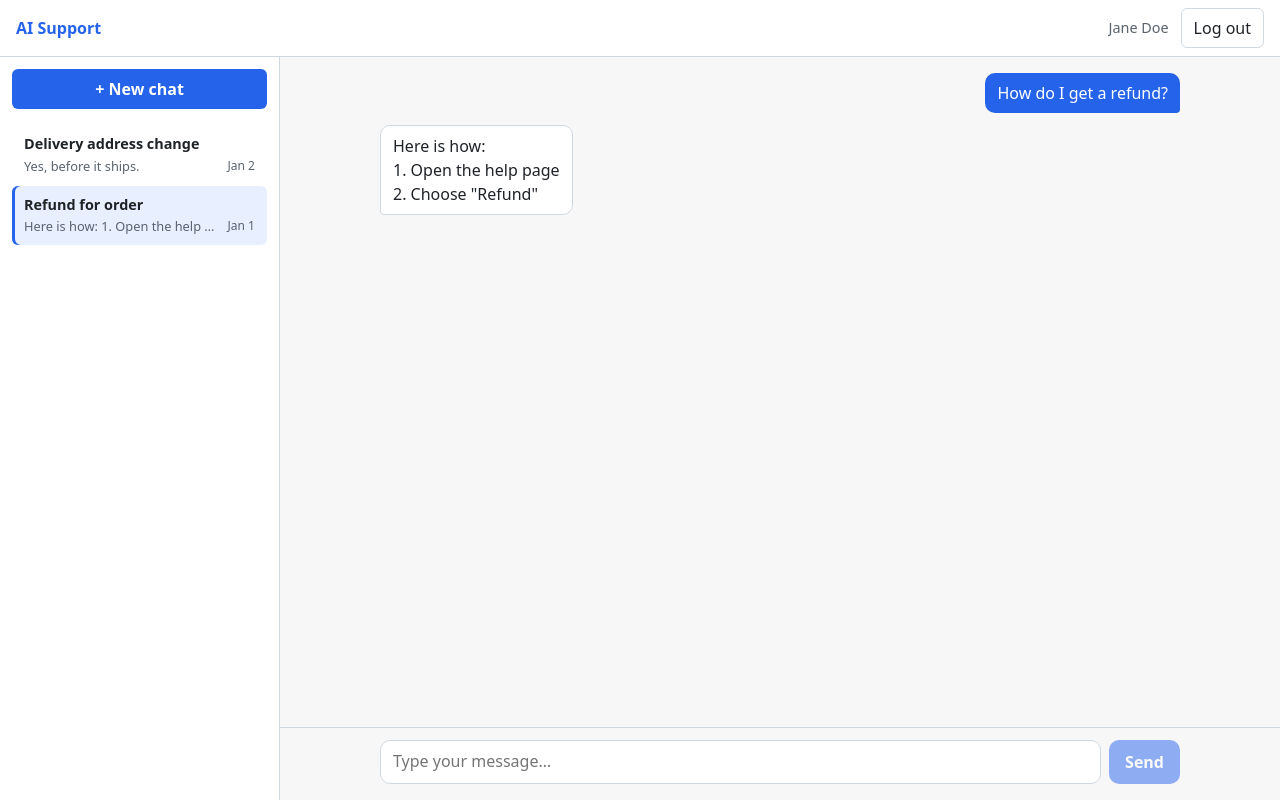
Test: When sending fails (UI-03) › UI-03: keeps my message with the server’s reason and a Retry that works
This screenshot has width=1280, height=800.
Expected: the button "Log out" is shown, [1181,8,1264,48]
In the text box labelled "message": (741, 762) [380,740,1101,784], type "Are you there?"
Then press Enter
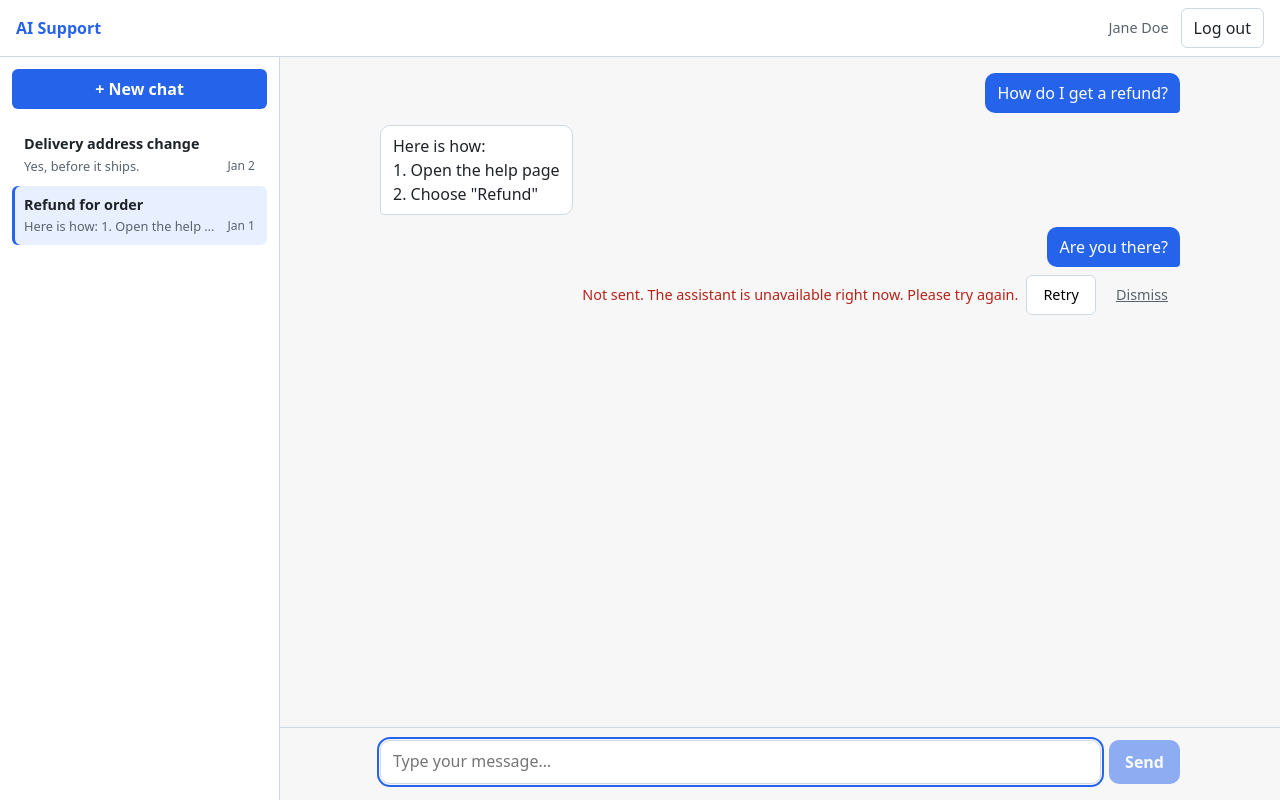
Expected: the message shows "Not sent. The assistant is unavailable right now. Please try again.", [582,285,1018,304]
Click the button "Retry": (1061, 295) [1026,275,1096,315]
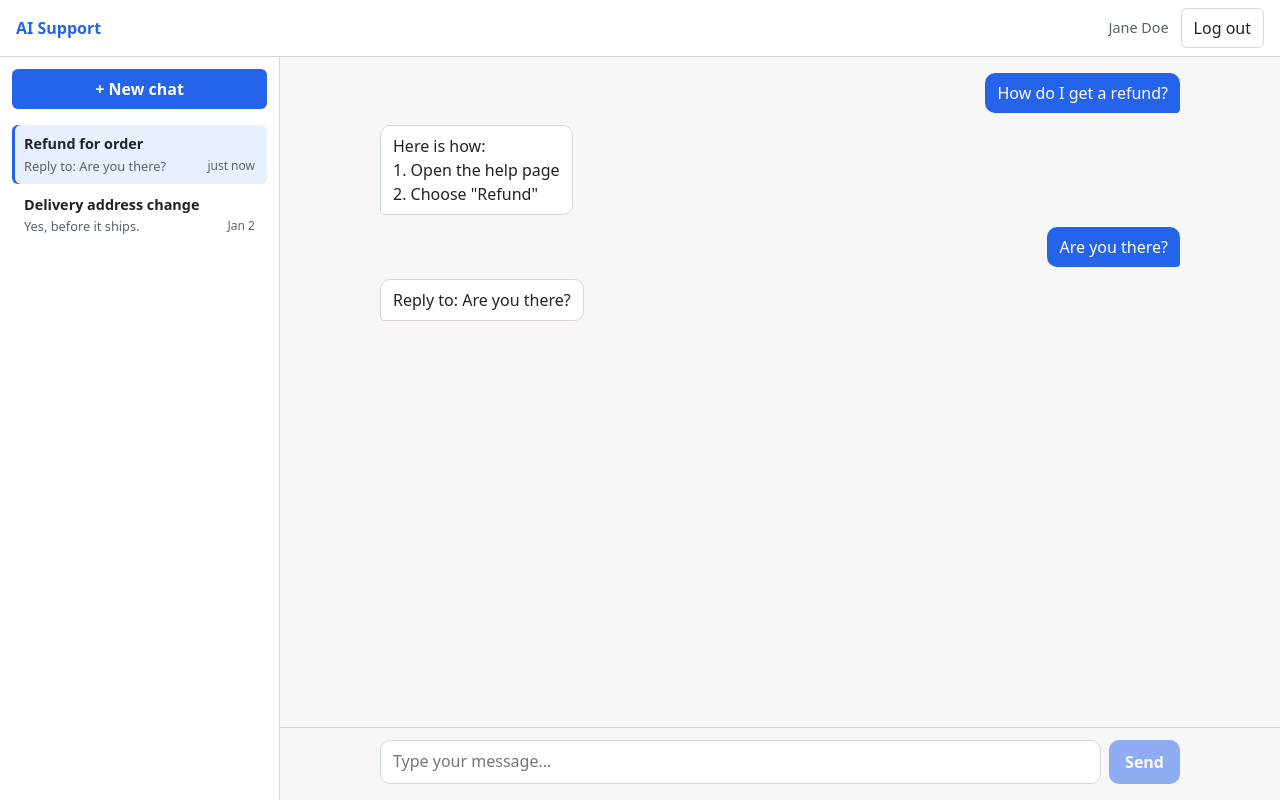
Expected: the 2nd text "Reply to: Are you there?" is shown, [380,279,584,321]
Expected: the message is gone
